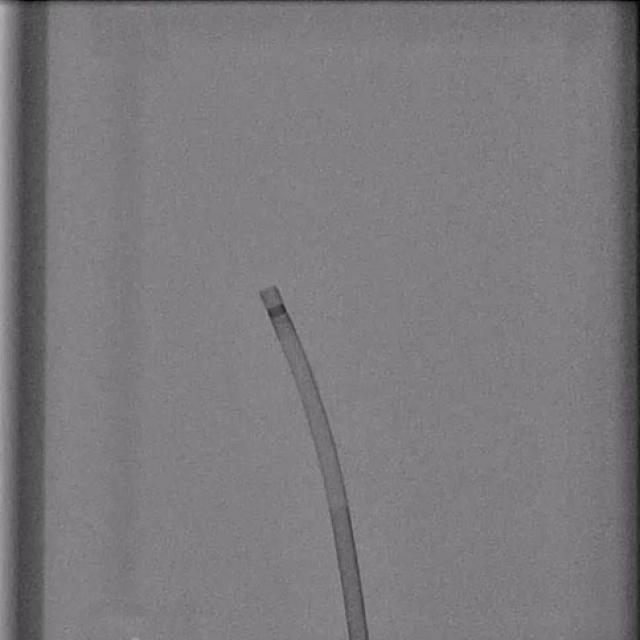bend: (328, 494, 349, 506)
entry: (349, 636, 369, 640)
marker: (267, 305, 288, 318)
tip: (259, 286, 277, 293)
